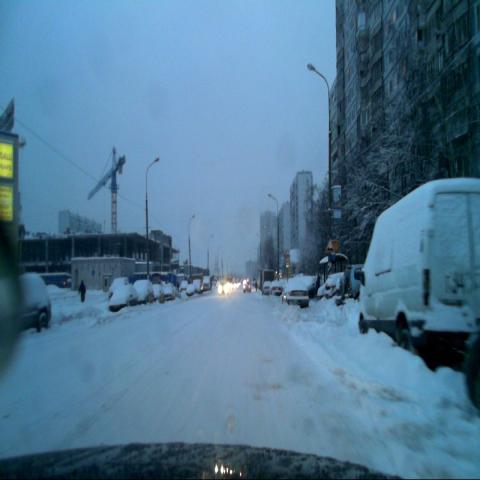1_16: (323, 236, 336, 255)
